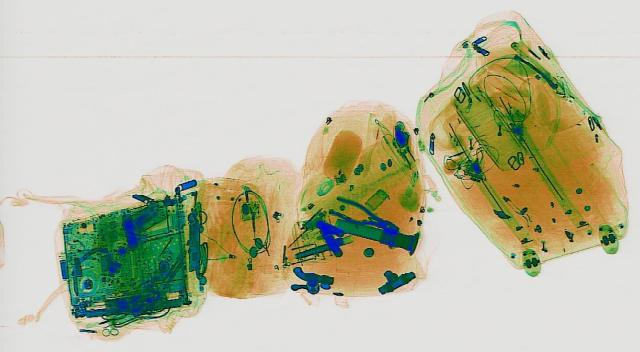Pliers: (316, 193, 406, 237)
